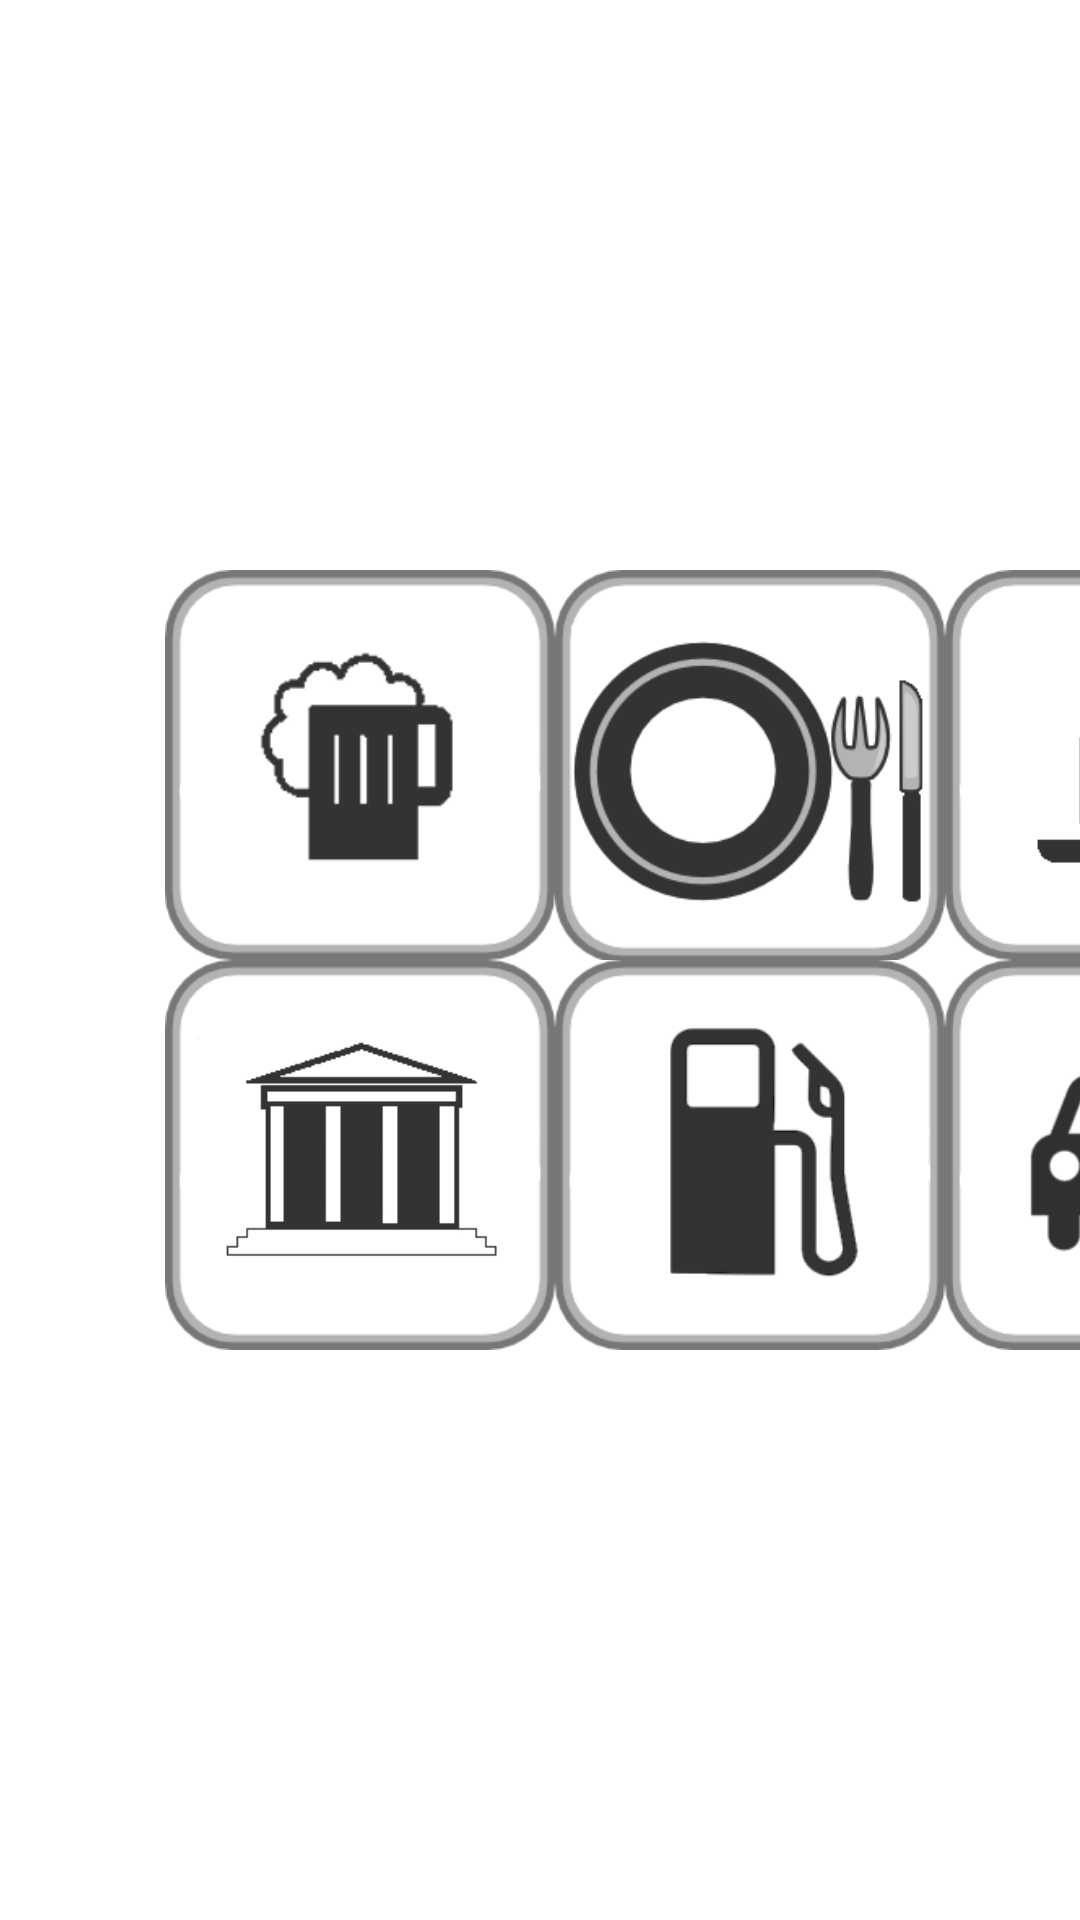

Icon bounding boxes for this 1080 × 1920 phone screenshot, format (x1, y1, x2, y2):
museum: (226, 1042, 497, 1256)
